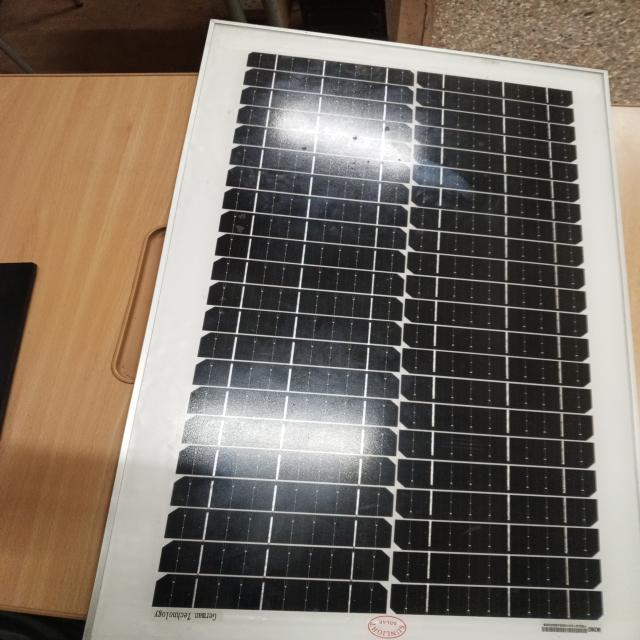Clean: (233, 48, 610, 618)
